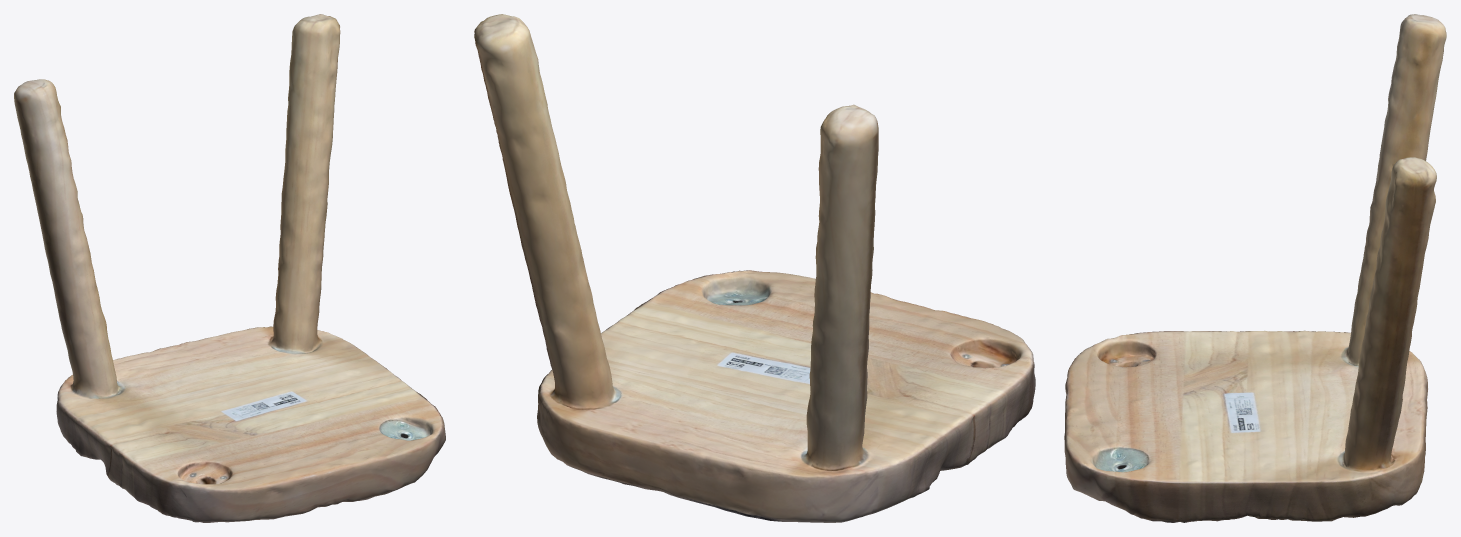
File: chair2.obj
3 renders of one model, left to right at view 1: azimuth 30°, elevation 25°; view 2: azimuth 150°, elevation 25°; view 3: azimuth 270°, elevation 25°, orthographic. The views are drawn at different scales.
Parts seen in each view (by area): view 1: mesh_0; view 2: mesh_0; view 3: mesh_0.
Boxes of the visible parts, box(x1,y1,x2,y2) form: mesh_0: box(14, 14, 445, 522); mesh_0: box(474, 14, 1035, 522); mesh_0: box(1064, 14, 1446, 522).
Bounding box in the file's own units: 0.278 × 0.2865 × 0.271.
Materials: 1 (1 with a texture image).
